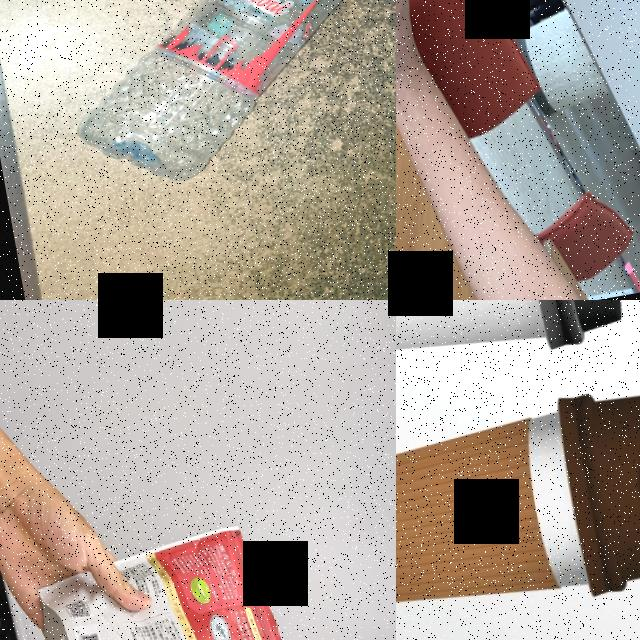bottle: (38, 0, 396, 201)
cup: (396, 376, 640, 640), (396, 300, 640, 404)
